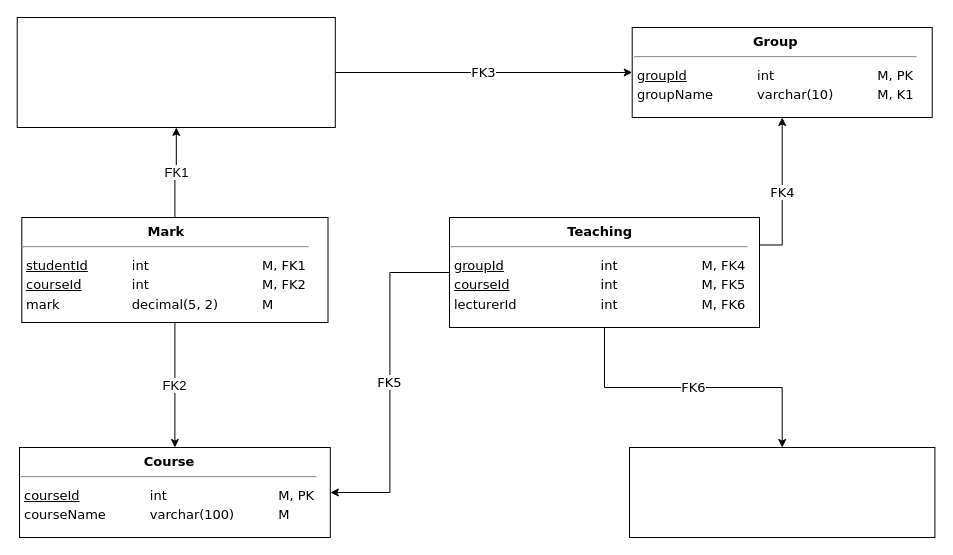
Some shapes in this 953 by 555 pixel diagram are drawn without their labels. Here are the shapes that lost their labels. From the top down, the centre of each, then its label:
(x=175, y=72): Student student_id int M, PK studentName varchar(50) M group_id int M, FK3
(x=781, y=492): Lecturer lecturerId int M, PK lecturerName varchar(50) M
